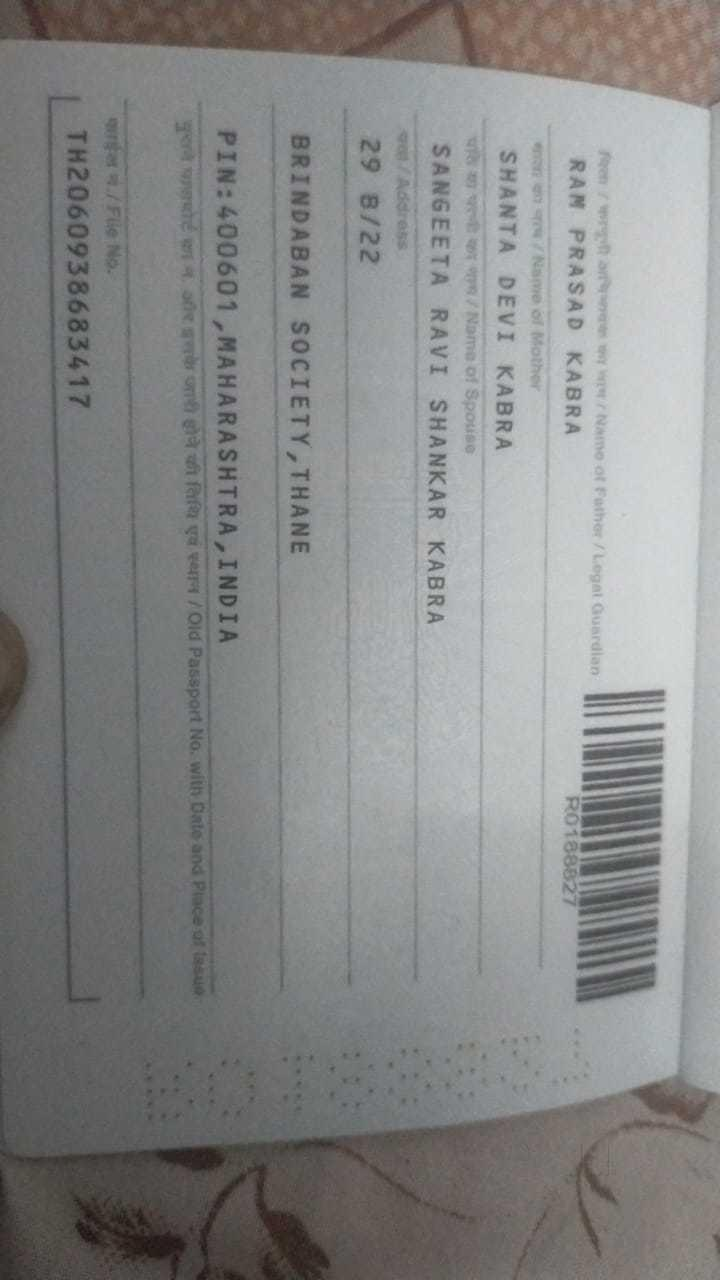File_no: (50, 116, 106, 434)
address: (207, 107, 390, 696)
father_name: (555, 135, 608, 463)
mother_name: (485, 128, 540, 462)
passport_no: (556, 781, 584, 931)
spouse_name: (408, 110, 467, 632)
